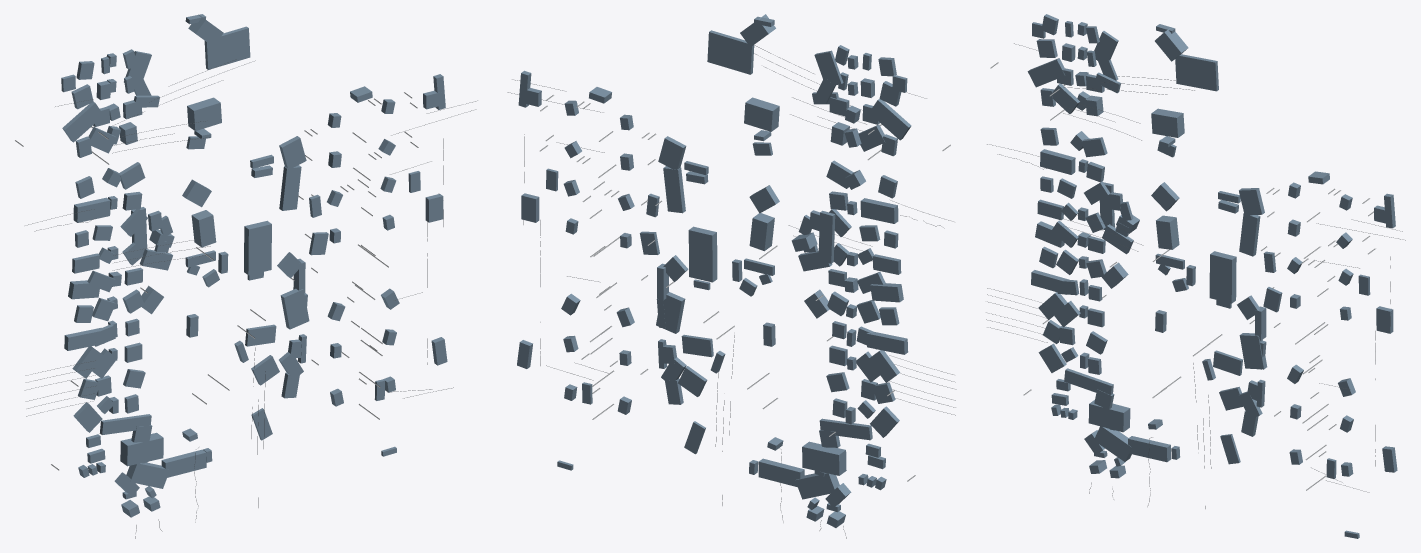
File: white_river_yard_model.glb
3 renders of one model, left to right at view 1: azimuth 30°, elevation 25°; view 2: azimuth 150°, elevation 25°; view 3: azimuth 330°, elevation 25°, orthographic. The views are drawn at different scales.
Parts seen in each view (by area): view 1: blocks, wires, posts; view 2: blocks, wires, posts; view 3: blocks, wires, posts.
Part boxes in pixels (<box>): blocks: <box>61,14,447,517</box>; wires: <box>24,59,477,538</box>; posts: <box>15,92,418,470</box>; blocks: <box>517,14,911,527</box>; wires: <box>507,45,956,538</box>; posts: <box>539,95,950,481</box>; blocks: <box>1027,14,1397,538</box>; wires: <box>986,43,1405,508</box>; posts: <box>990,62,1375,490</box>.
Size of the model in its own units: 196 by 210 by 24.47.
